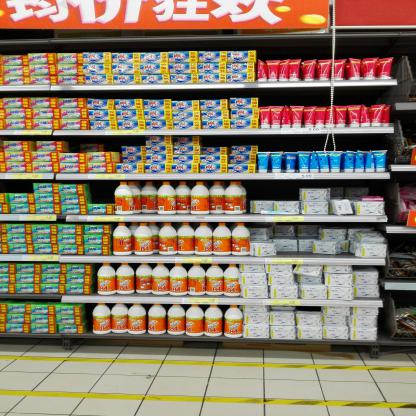Void: (0, 40, 255, 50), (264, 40, 395, 58), (264, 136, 388, 151), (266, 89, 383, 104), (254, 177, 297, 201), (72, 139, 122, 152), (93, 181, 112, 204), (207, 136, 253, 145), (300, 179, 331, 188), (5, 185, 31, 193), (125, 137, 146, 145)
